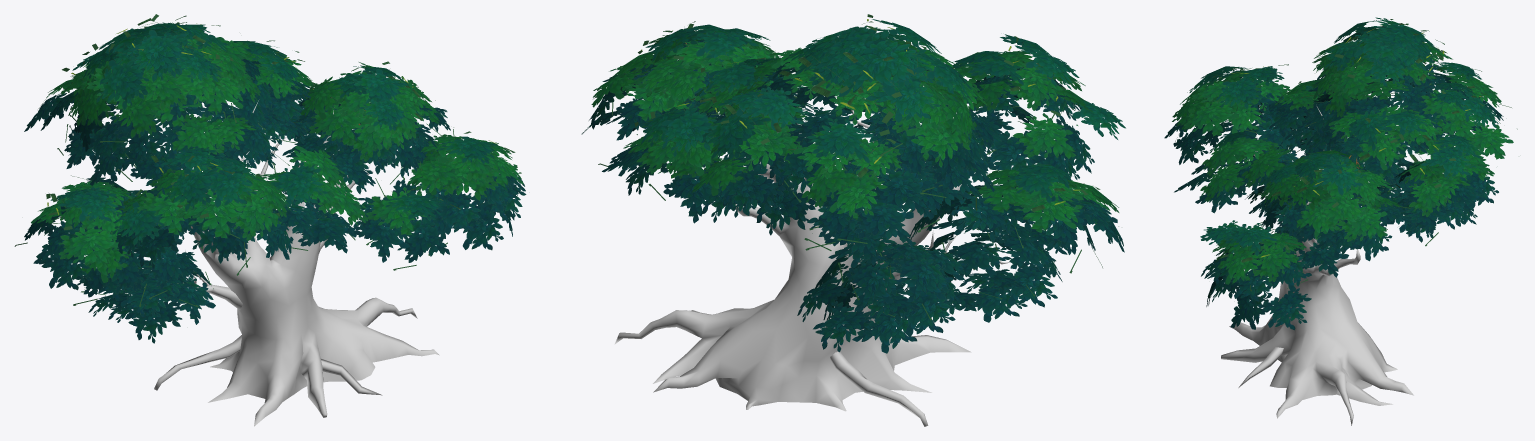
The model's file is zhiwu_03.FBX.
The picture shows the model from 3 angles, left to right: view 1: azimuth 30°, elevation 25°; view 2: azimuth 150°, elevation 25°; view 3: azimuth 270°, elevation 25°; orthographic projection. The views are drawn at different scales.
Parts seen in each view (by area): view 1: zhiwu_03_01, zhiwu_03_02; view 2: zhiwu_03_01, zhiwu_03_02; view 3: zhiwu_03_01, zhiwu_03_02.
Boxes of the visible parts, x1,y1,x2,y2 form: zhiwu_03_01: [14, 14, 526, 343]; zhiwu_03_02: [154, 100, 439, 426]; zhiwu_03_01: [581, 14, 1125, 353]; zhiwu_03_02: [614, 50, 1010, 426]; zhiwu_03_01: [1164, 17, 1517, 330]; zhiwu_03_02: [1221, 106, 1413, 425].
Size of the model in its own units: 2311 by 1633 by 1713.
